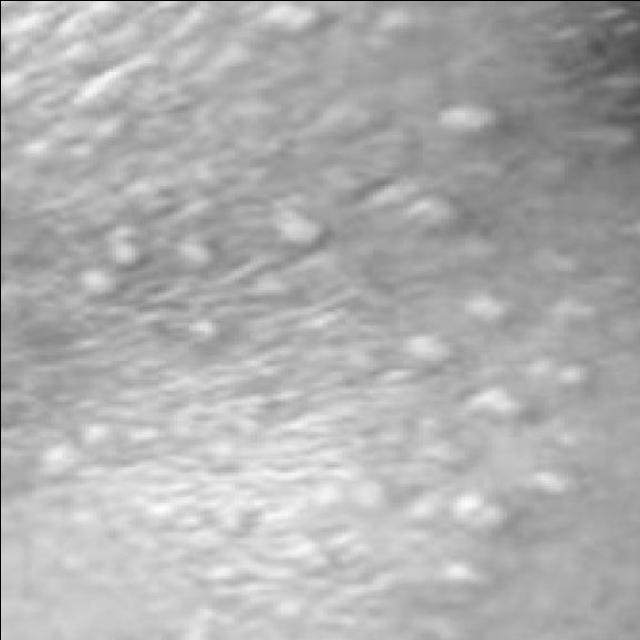whitehead: (56, 3, 607, 588)
